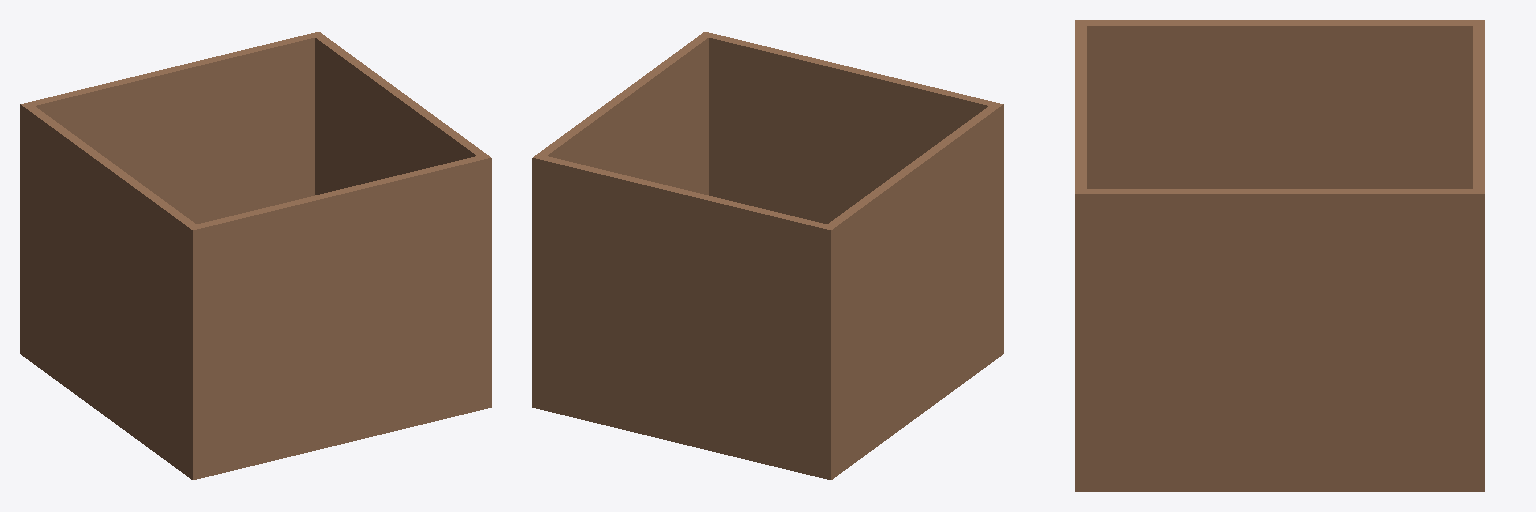
URDF robot description (box.SLDPRT):
<?xml version="1.0" encoding="utf-8"?>
<!-- This URDF was automatically created by SolidWorks to URDF Exporter! Originally created by [author] ([email redacted]) 
     Commit Version: 1.5.1-0-g916b5db  Build Version: 1.5.7152.31018
     For more information, please see http://wiki.ros.org/sw_urdf_exporter -->
<robot
  name="box.SLDPRT">
  <link
    name="box.SLDPRT">
    <inertial>
      <origin
        xyz="1.2996E-17 1.20353843572399E-16 0.16926"
        rpy="0 0 0" />
      <mass
        value="1.99" />
      <inertia
        ixx="1.73042"
        ixy="-1.2824E-17"
        ixz="-2.8299E-17"
        iyy="1.73042"
        iyz="2.85579897269348E-17"
        izz="1.0053" />
    </inertial>
    <visual>
      <origin
        xyz="0 0 0"
        rpy="1.5707963267949 0 0" />
      <geometry>
        <mesh
          filename="models/meshes/box/box.SLDPRT.STL" />
      </geometry>
      <material
        name="">
        <color
          rgba="0.651 0.502 0.392 1" />
        <texture
          filename="models/textures/box/box.png" />
      </material>
    </visual>
    <collision>
      <origin
        xyz="0 0 0"
        rpy="1.5707963267949 0 0" />
      <geometry>
        <mesh
          filename="models/meshes/box/box.SLDPRT.STL" />
      </geometry>
    </collision>
  </link>
</robot>

--- Render facts (derived) ---
The picture shows the robot from 3 angles, left to right: view 1: azimuth 30°, elevation 25°; view 2: azimuth 150°, elevation 25°; view 3: azimuth 270°, elevation 25°; orthographic projection.
Model box.SLDPRT with 1 links and 0 joints (none), rooted at box.SLDPRT, posed every joint at zero.
Visible links, largest first — view 1: box.SLDPRT; view 2: box.SLDPRT; view 3: box.SLDPRT.
Boxes of the visible links, bbox=[...] form: box.SLDPRT: bbox=[20, 32, 491, 479]; box.SLDPRT: bbox=[532, 32, 1003, 479]; box.SLDPRT: bbox=[1075, 20, 1484, 491].
Bounding box of the posed robot: 0.5 × 0.5 × 0.4 m (x, y, z).
Meshes: 1 distinct files referenced, 1 mesh visuals loaded (1 binary STL).